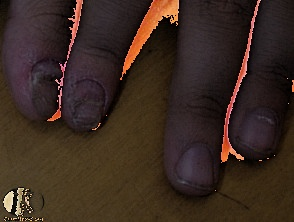Nail_psoriasis: (222, 90, 294, 174), (163, 117, 233, 200), (14, 40, 67, 126), (61, 64, 120, 136)
